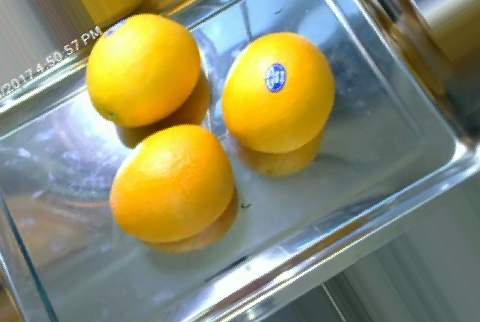Orange: (109, 124, 232, 243), (220, 30, 335, 152), (84, 12, 198, 127)
